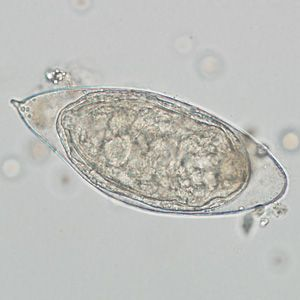Parasite: (8, 63, 293, 237)
